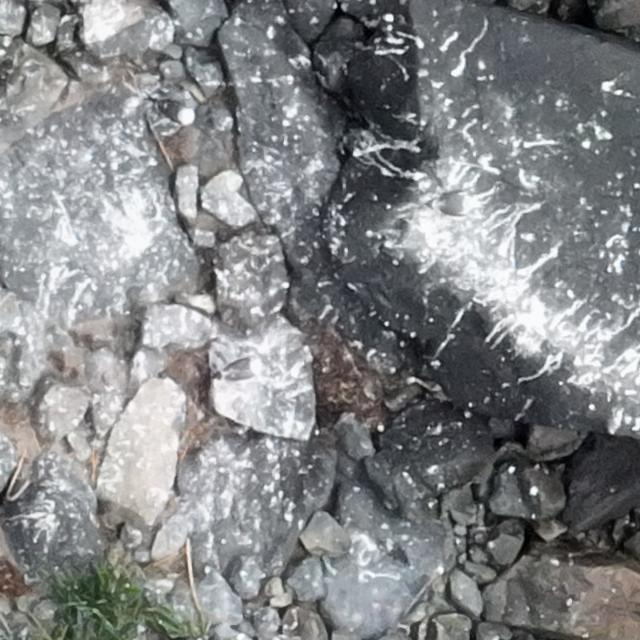umineko: (212, 357, 260, 383), (156, 98, 193, 124)
